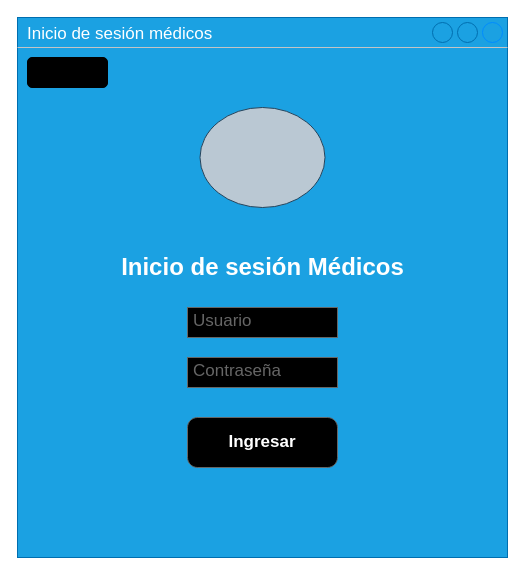
Some shapes in this 525 by 575 pixel diagram are drawn without their labels. Each missing label, with the box of its shape:
Imagen: (199, 106, 325, 208)
Volver: (26, 56, 108, 88)
